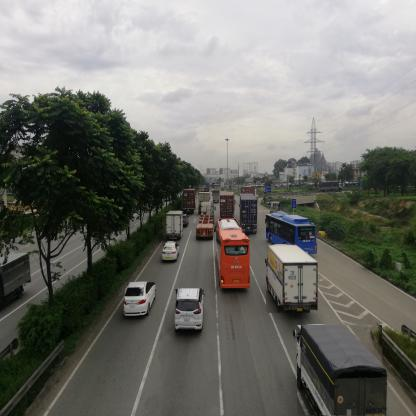bus: (217, 218, 251, 289), (267, 214, 320, 249)
car: (177, 290, 205, 331), (126, 283, 156, 317), (163, 242, 180, 264)
container: (241, 195, 260, 234), (200, 203, 215, 242), (221, 194, 235, 215), (184, 190, 196, 211), (242, 187, 258, 195)
truck: (298, 326, 384, 416), (267, 244, 319, 314), (167, 211, 183, 238), (320, 183, 343, 193), (200, 193, 211, 201)
